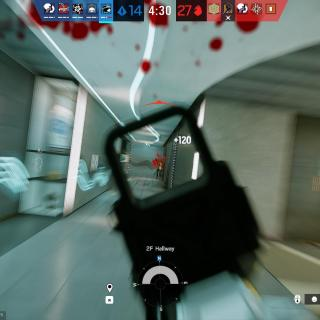Character: (156, 160, 163, 182)
Friend_label: (34, 148, 46, 159)
